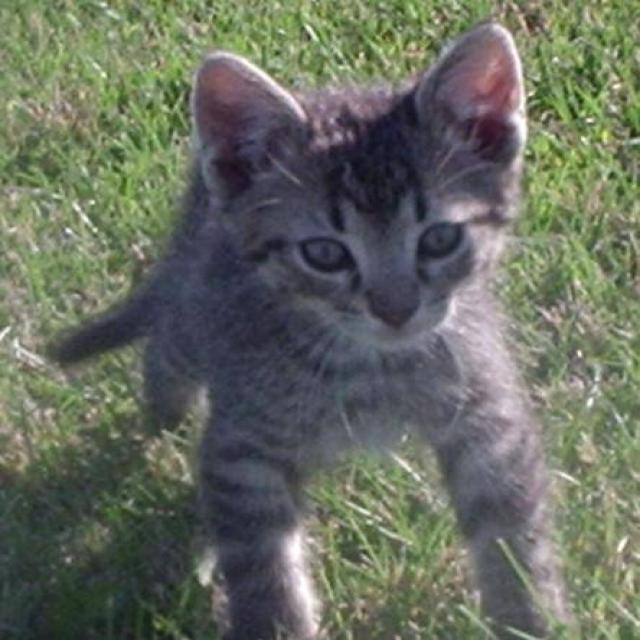cat: (43, 19, 574, 639)
